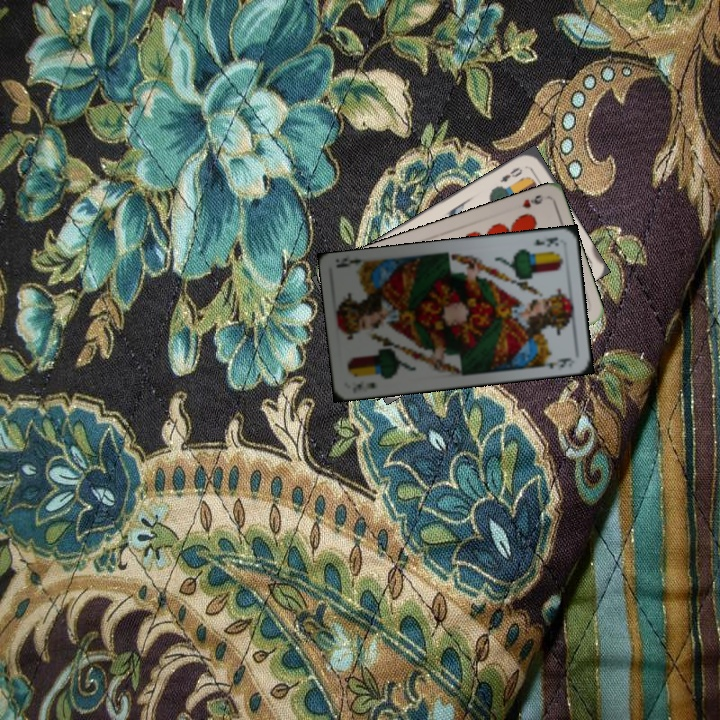EK: (529, 233, 562, 249), (349, 379, 378, 395)
EO: (496, 163, 525, 185)
H9: (518, 191, 545, 211)
